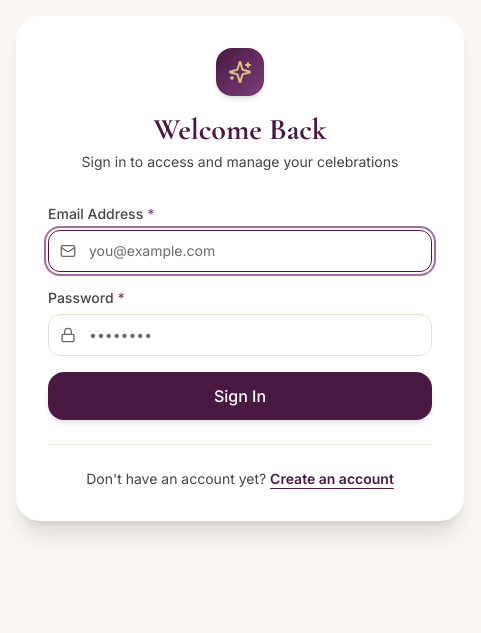
Test: LoginPage Component › displays server error message when login fails
In the field labelled "Email Address*": [240, 251] box [48,230,432,272], type "bad@example.com"
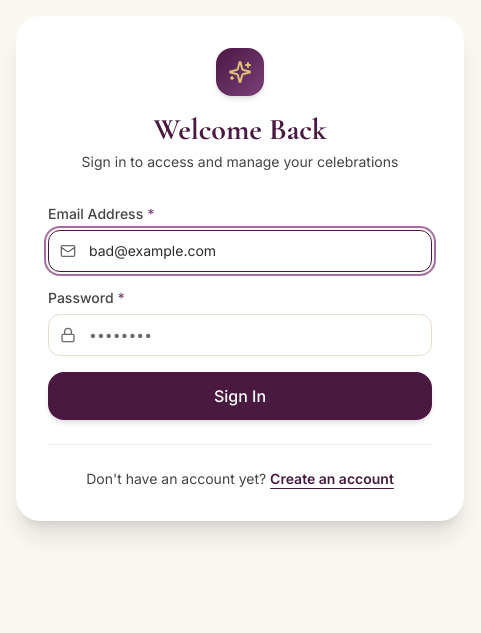
In the password field labelled "Password*": [240, 335] box [48,314,432,356], type "WrongPassword!"
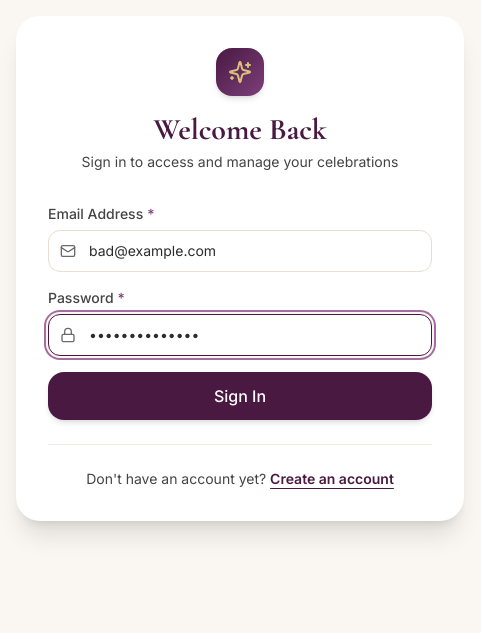
Click the button "Sign In": [240, 396] box [48,372,432,420]
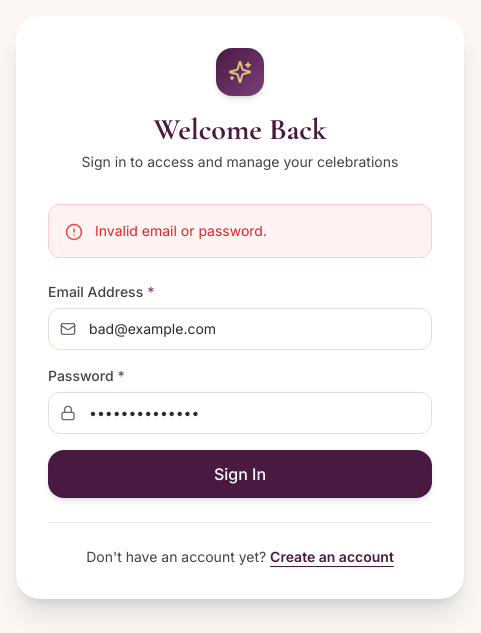
Expected: the button "Sign In" is enabled, [48,450,432,498]
Now the message shows "Invalid email or password", box [95,222,267,239]
